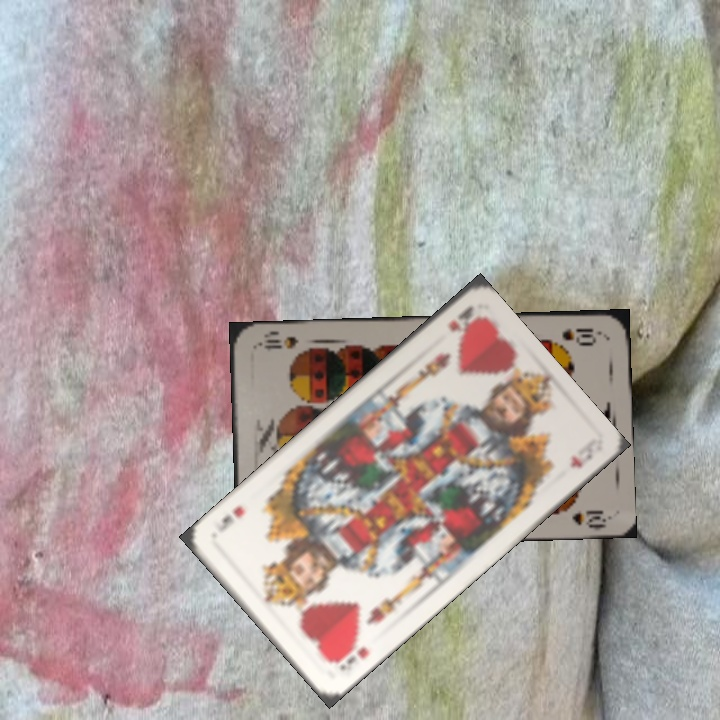HK: (330, 635, 372, 673), (444, 301, 482, 335)
S10: (558, 324, 603, 345)
